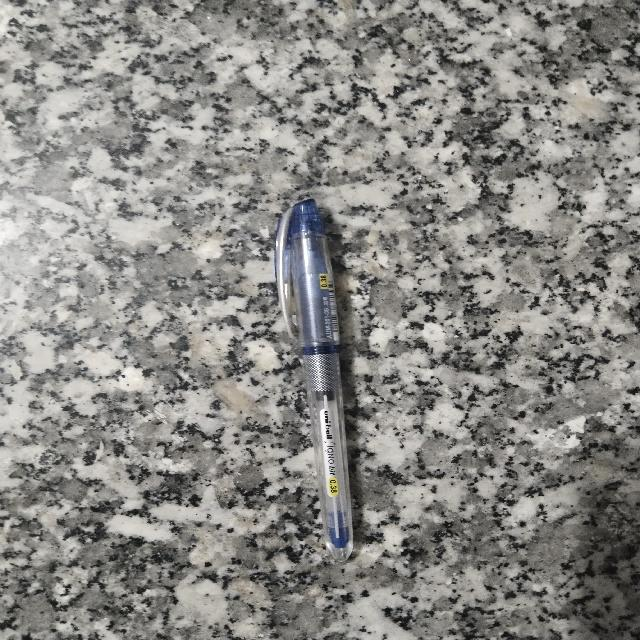pen: (275, 199, 352, 560)
